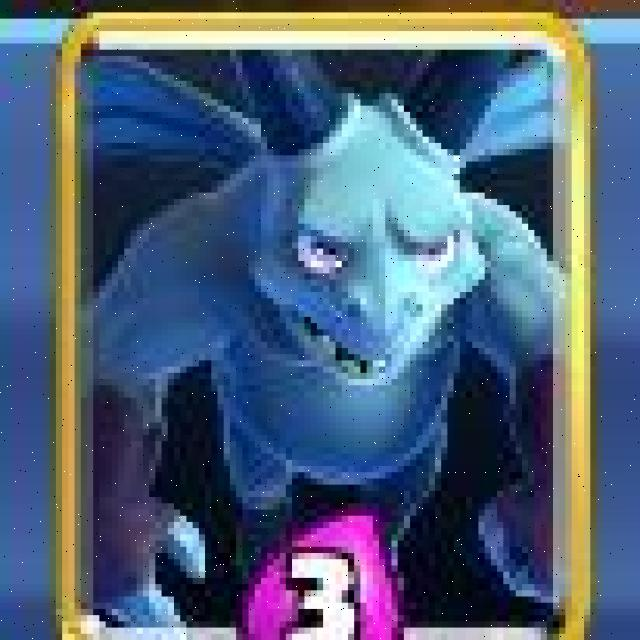Minions: (57, 15, 591, 640)
